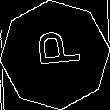P_W: (28, 34, 82, 76)
